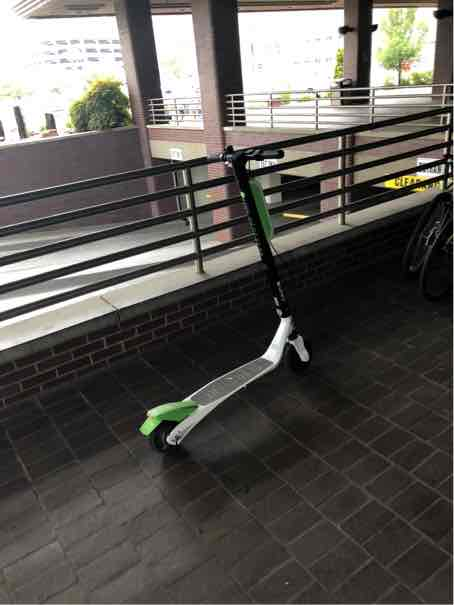scooter: (130, 134, 323, 459)
